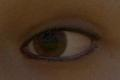eye: (32, 30, 68, 58)
